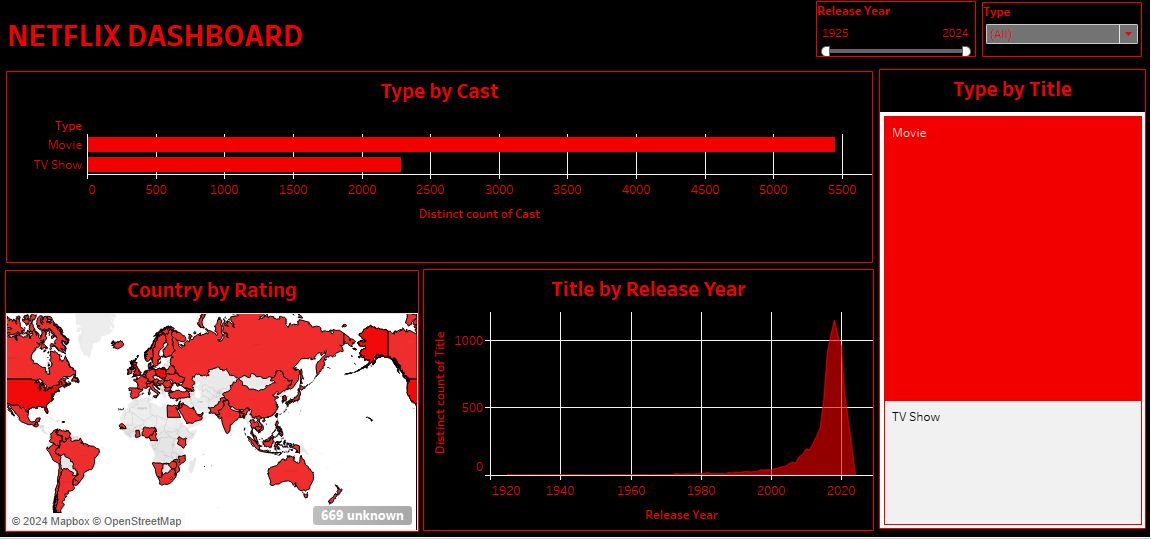

Layout of this report page (visuals, bound fields, positions):
{"tool":"tableau","page":{"name":"Dashboard 1","canvas":[1000,1000],"units":"permille","ordinal":0},"visuals":[{"type":"blank","box":[1.7,19.9,996.5,980.1]},{"type":"filter","title":"Sheet 2","param":"[federated.1xjg2mp149qopg1bjmvtl0i6fv9l].[none:release_year:qk]","box":[709.1,29,138.5,101.5]},{"type":"filter","title":"Sheet 5","param":"[federated.1xjg2mp149qopg1bjmvtl0i6fv9l].[none:type:nk]","box":[852.8,30.8,138.5,99.6]},{"type":"text","box":[6.1,52.5,261.5,72.5]},{"type":"worksheet","title":"Sheet 1","mark":"Automatic","box":[763.6,152.2,231.2,833.3]},{"type":"worksheet","title":"Sheet 5","mark":"Automatic","rows":["type"],"cols":["cast"],"box":[7.8,155.8,750.6,347.8]},{"type":"worksheet","title":"Sheet 2","mark":"Area","rows":["title"],"cols":["release_year"],"box":[368.8,514.5,390.5,474.6]},{"type":"worksheet","title":"Sheet 3","mark":"Multipolygon","box":[6.9,516.3,358.4,474.6]}]}

Visuals, with their boxes on the dashboard's canvas, which has no fixed pixel size, in thousandths of its width and height (x1, y1, x2, y2). These are canvas units, not pixel positions in the 1151x539 screenshot, which may show the page scaled, cropped or inside an application window:
blank: 2, 20, 998, 1000
"Sheet 2" filter: 709, 29, 848, 130
"Sheet 5" filter: 853, 31, 991, 130
text: 6, 52, 268, 125
"Sheet 1" worksheet: 764, 152, 995, 986
"Sheet 5" worksheet: 8, 156, 758, 504
"Sheet 2" worksheet (Area marks): 369, 514, 759, 989
"Sheet 3" worksheet (Multipolygon marks): 7, 516, 365, 991
